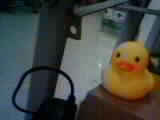duck: (92, 33, 156, 94)
